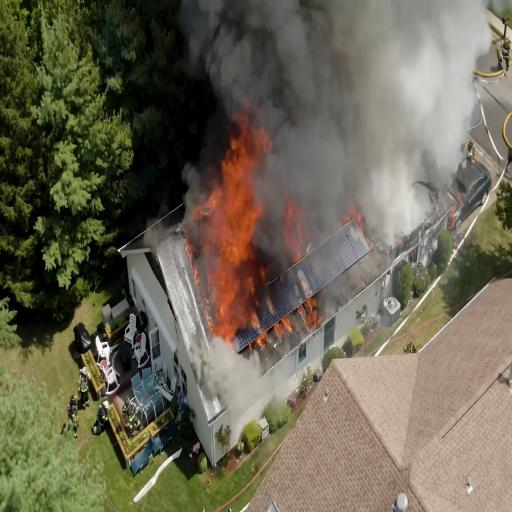fire: (187, 112, 268, 326)
smoke: (290, 0, 416, 217), (205, 0, 479, 82)
